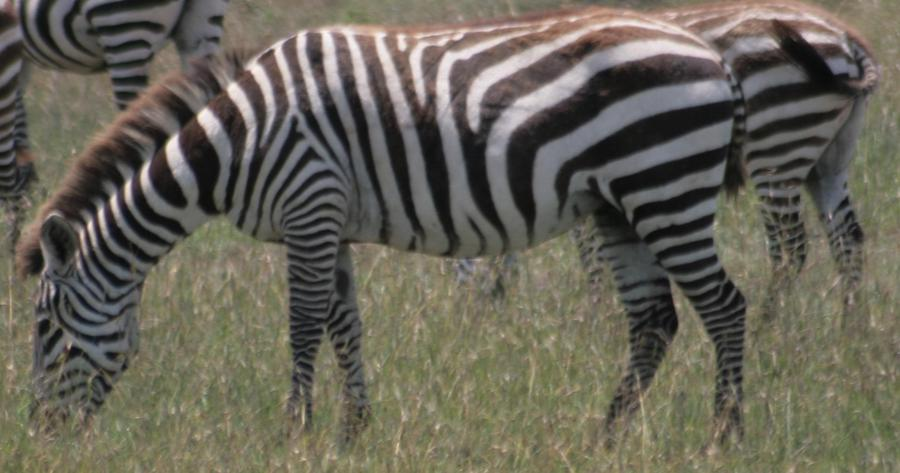zebra_plains: (225, 1, 736, 261)
